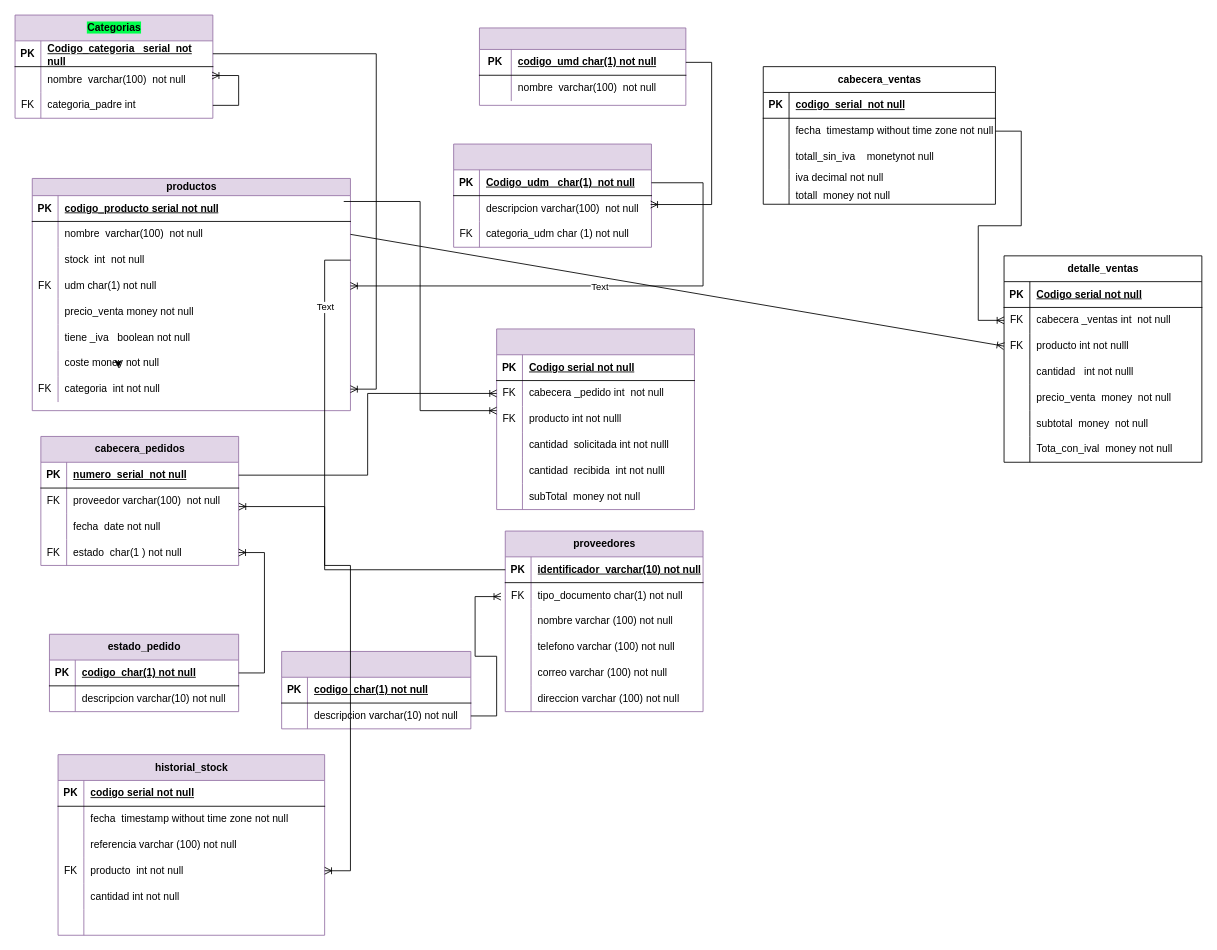
Some shapes in this 1217 by 950 pixel diagram are drawn without their labels. The shapes that lost their labels are listed below. From the top down, each one's box as (x1, y1, x2, y2) in pixels, then its label:
(479, 27, 686, 105): Categorias_unidad_medida
(453, 143, 651, 247): unidades_medida
(496, 328, 694, 510): detalle_pedidos
(281, 651, 471, 729): tipo_documentos
